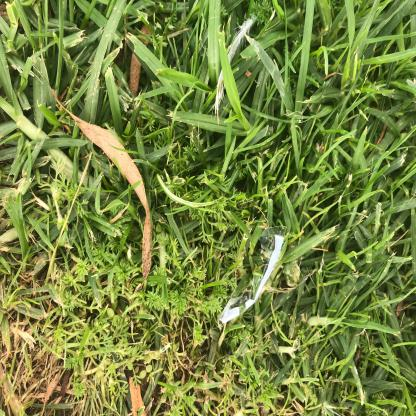trash: (66, 284, 146, 386)
